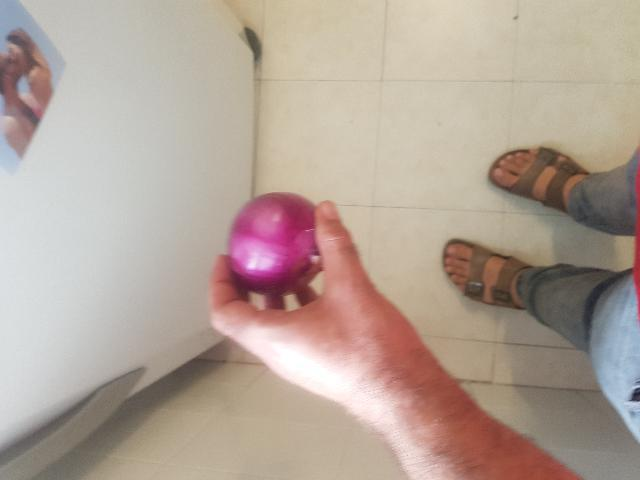onion: (230, 188, 335, 294)
